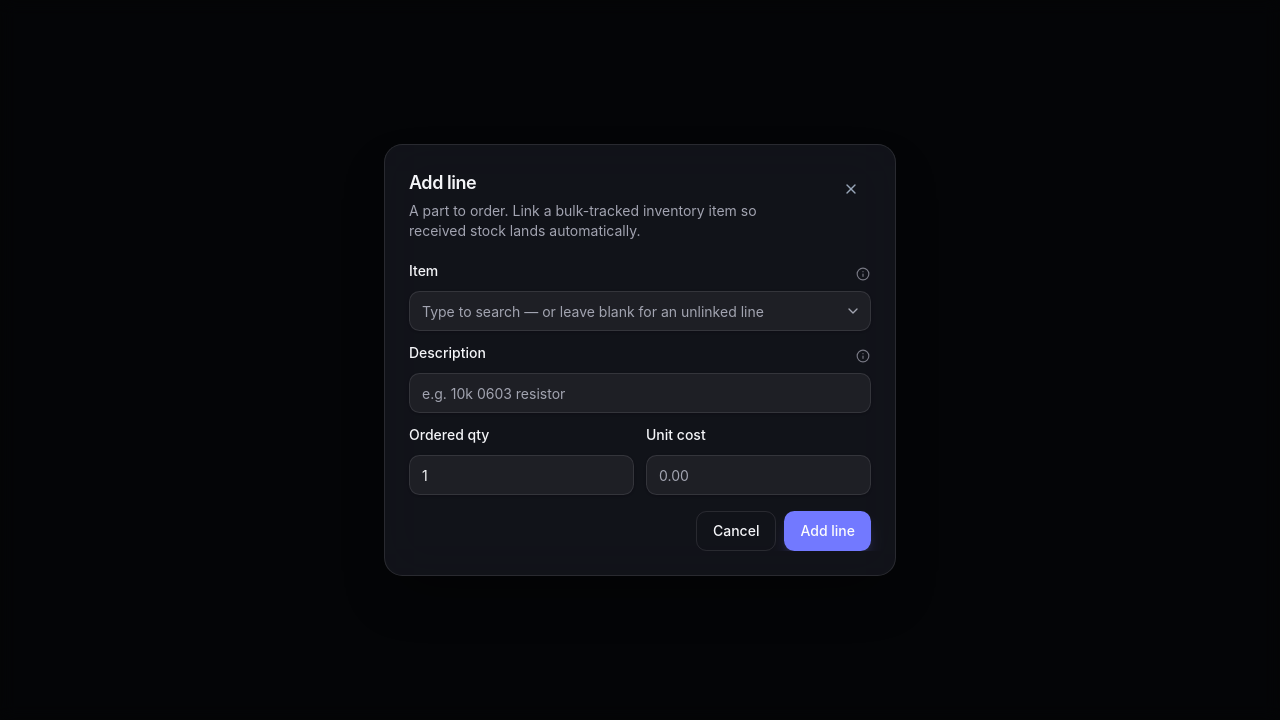
it: PurchaseOrderLineDialog — supplier/order currency mismatch (issue #285) › keeps a hand-entered cost when a price-break tier is clicked
Step 1. Click the dropdown labelled "Item" → click(640, 311), box top-left (409, 291), bottom-right (871, 331)
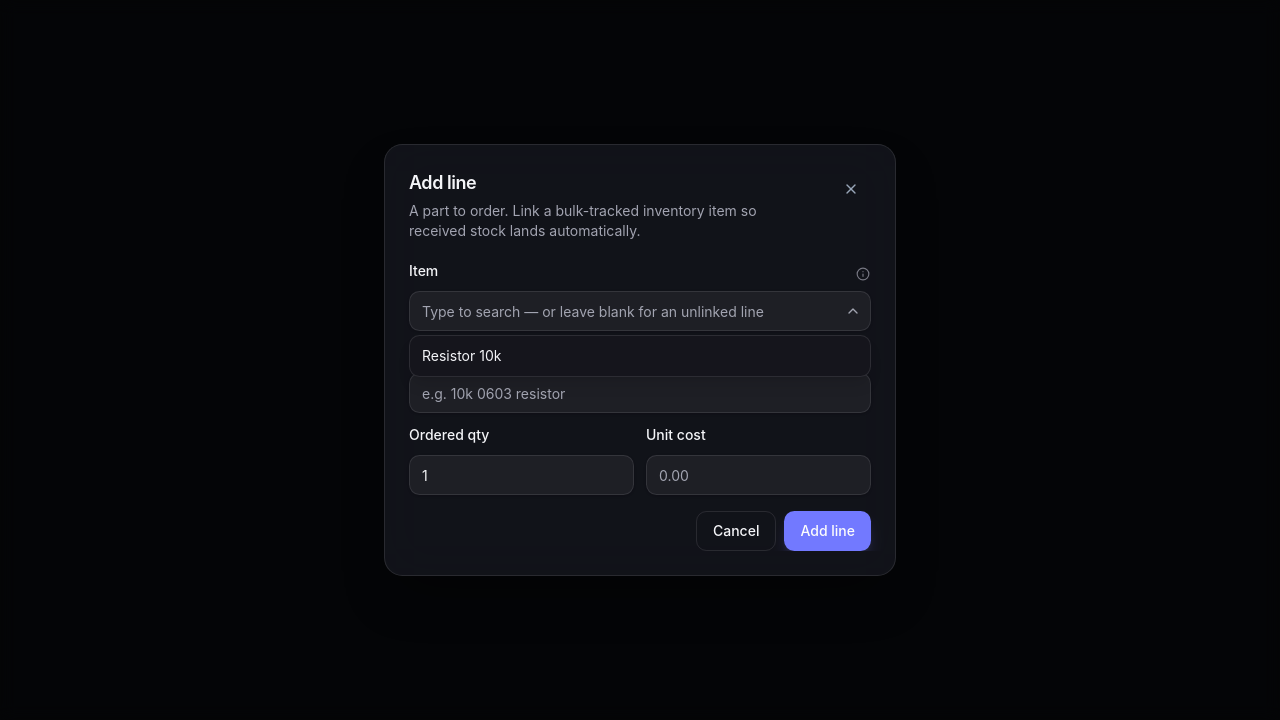
Step 2. Press the mouse on the option "Resistor 10k" → (462, 356), box top-left (422, 347), bottom-right (501, 364)
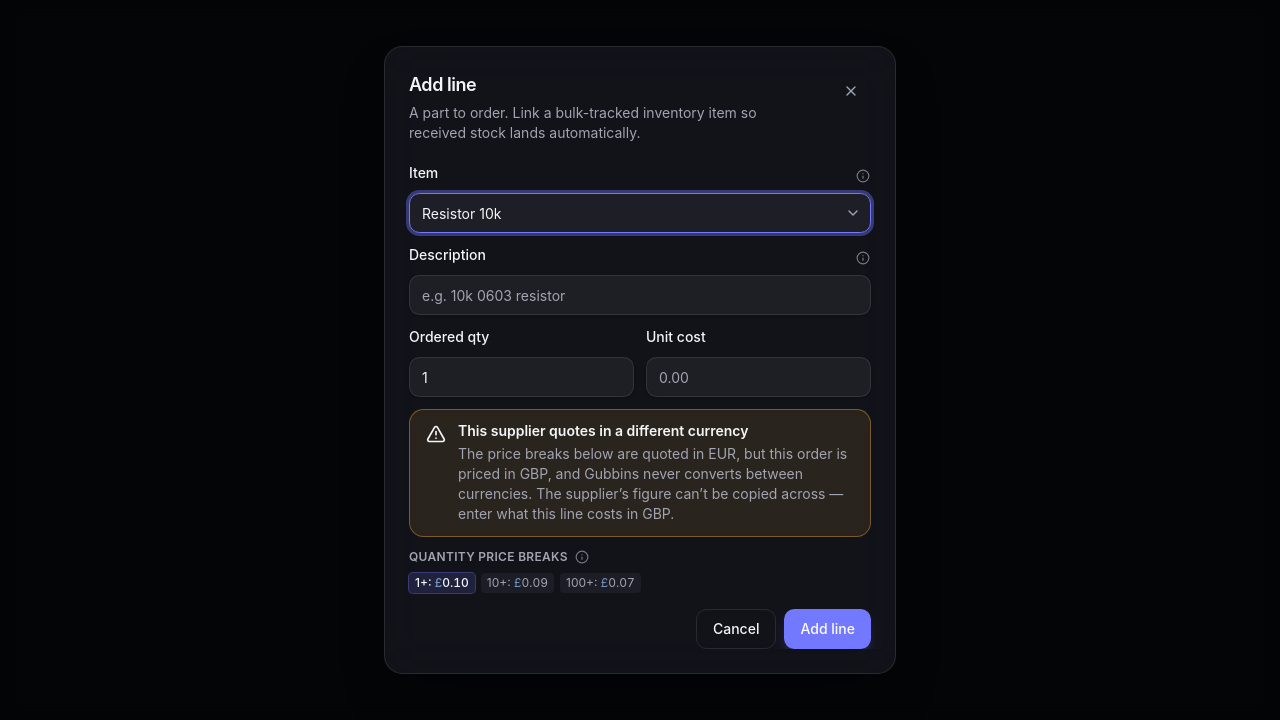
Step 3. Type "0.085" into the field with test id "po-line-cost" → (758, 377), box top-left (646, 357), bottom-right (871, 397)
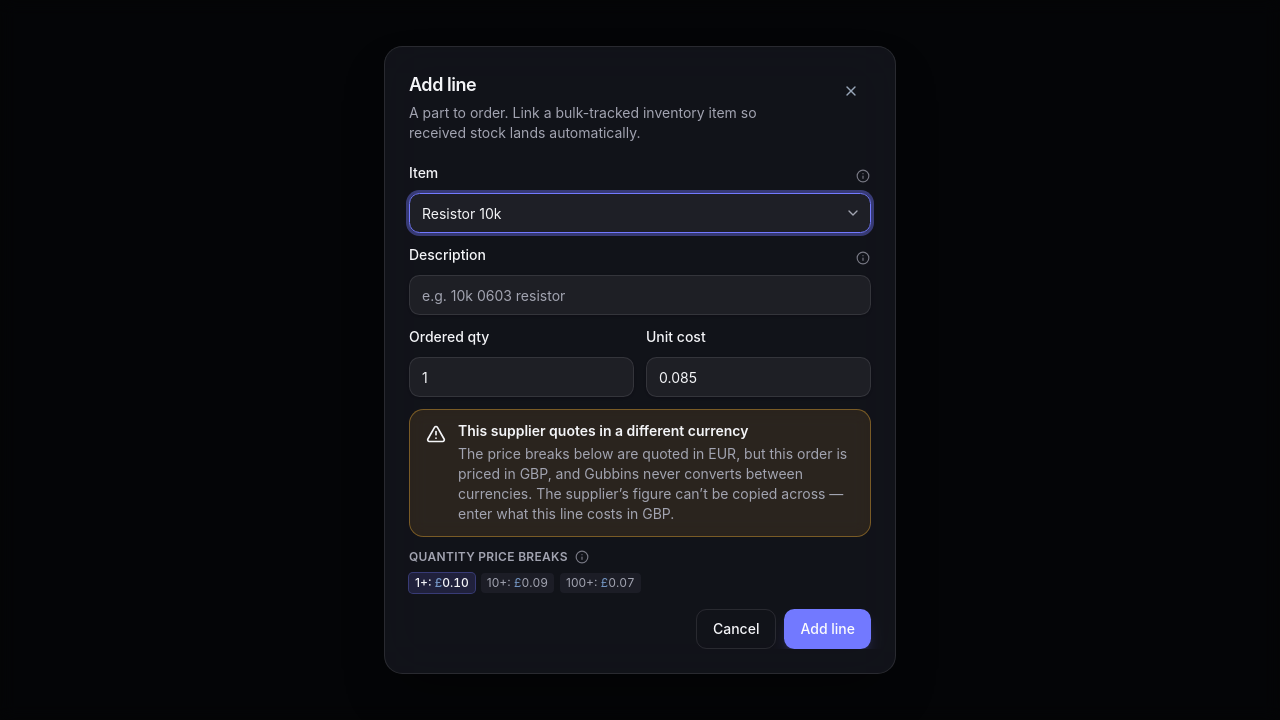
Step 4. Click the button with test id "po-line-price-break" showing "10+: £0.09" → click(518, 583), box top-left (481, 573), bottom-right (554, 593)
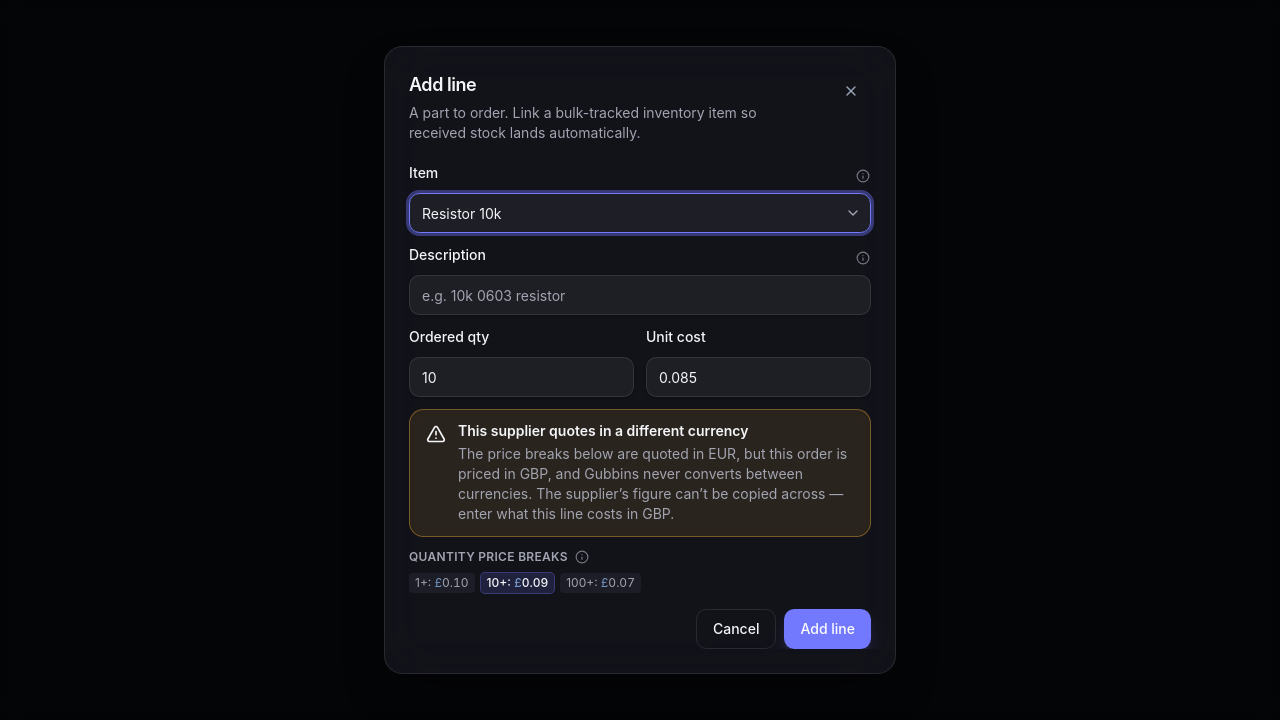
Expected: the field with test id "po-line-qty" holds "10", top-left (409, 357), bottom-right (634, 397)
